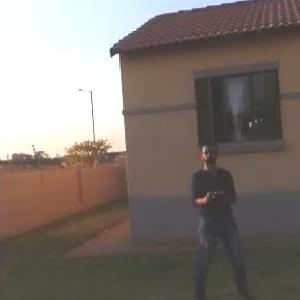follow: (180, 130, 256, 299)
